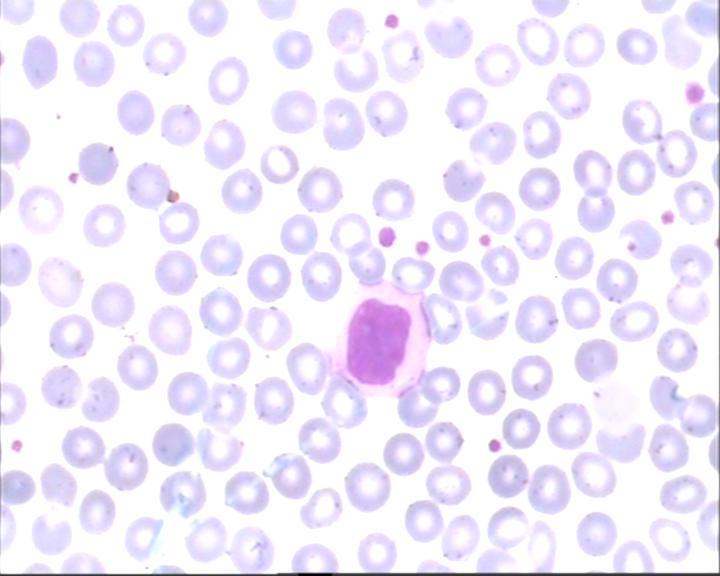mono: (326, 272, 432, 399)
